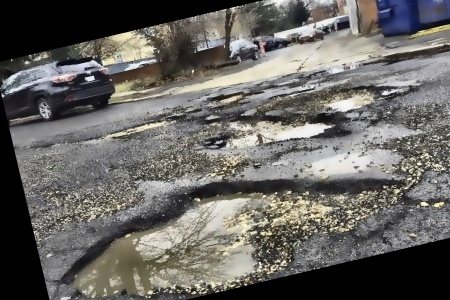pothole: (43, 136, 424, 300), (195, 91, 348, 170), (314, 75, 400, 118), (92, 116, 166, 142), (214, 89, 247, 106)
